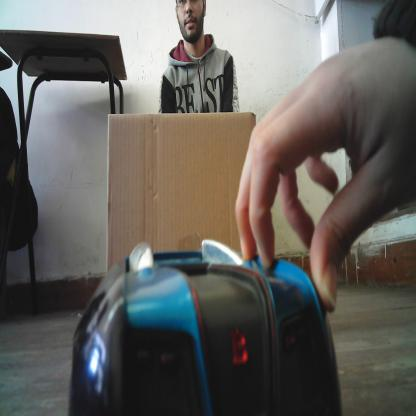LeadTruck: (106, 113, 261, 286)
